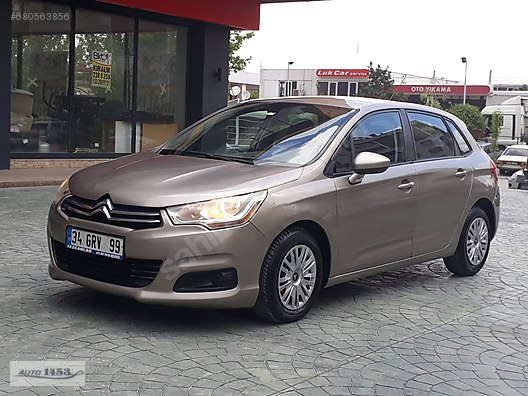citroen: (41, 90, 505, 325)
